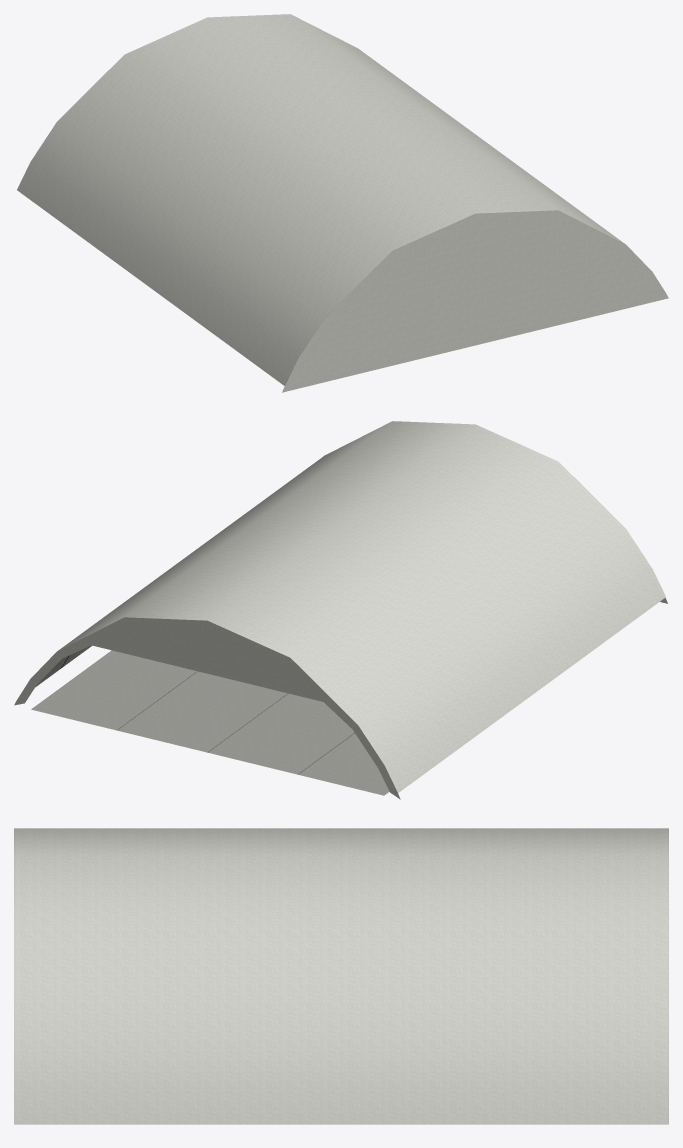
File: hangar-arched-fabric-white-25x30-cbj_LOD02.gltf
3 renders of one model, top to bottom at view 1: azimuth 30°, elevation 25°; view 2: azimuth 150°, elevation 25°; view 3: azimuth 270°, elevation 25°, orthographic. The views are drawn at different scales.
Parts seen in each view (by area): view 1: hanger02; view 2: hanger02; view 3: hanger02.
Part boxes in pixels (left/top/right/bottom): hanger02: left=17, top=14, right=668, bottom=392; hanger02: left=14, top=421, right=667, bottom=799; hanger02: left=14, top=828, right=668, bottom=1124.
Size of the model in its own units: 25.01 by 8.15 by 30.
